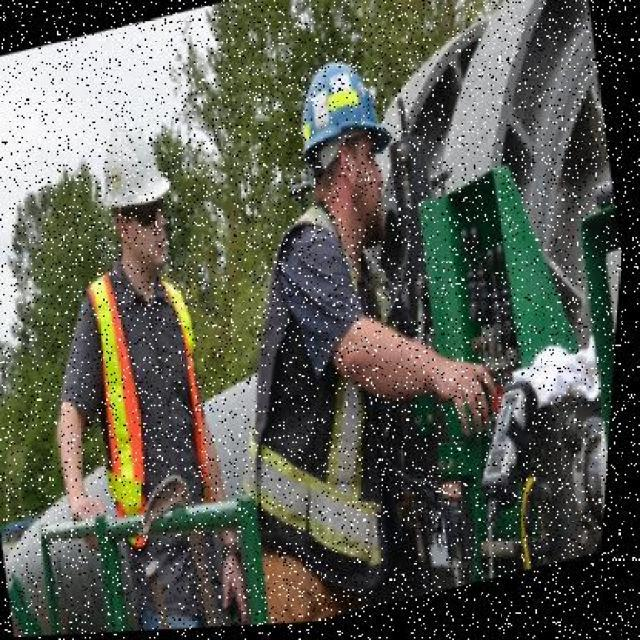helmet: (281, 51, 403, 188), (83, 111, 187, 233)
